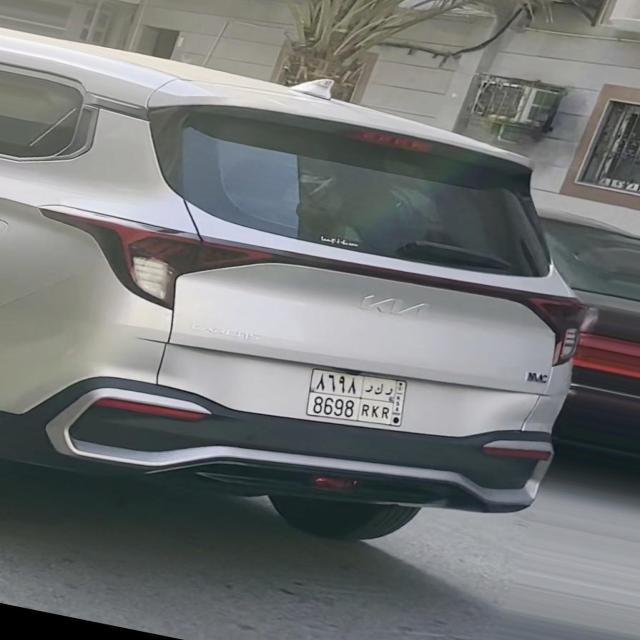Car-plate: (289, 360, 432, 436)
